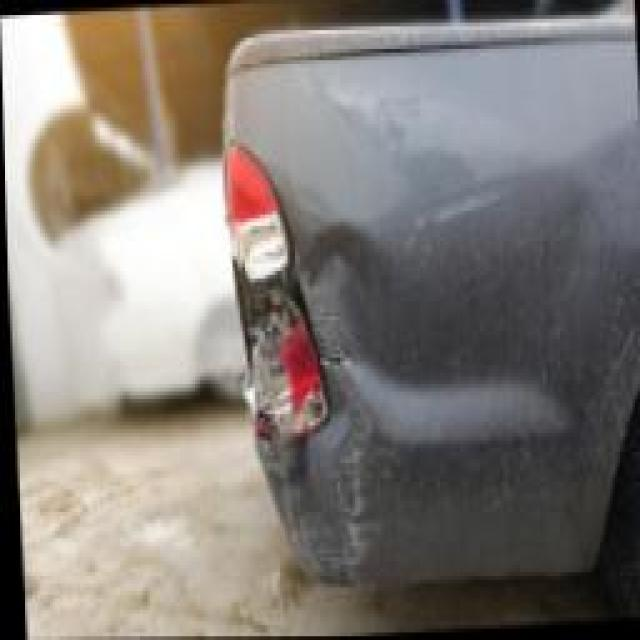Light: (210, 139, 315, 445)
